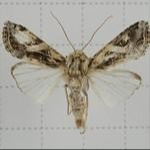Spodoptera litura: (0, 11, 149, 134)
